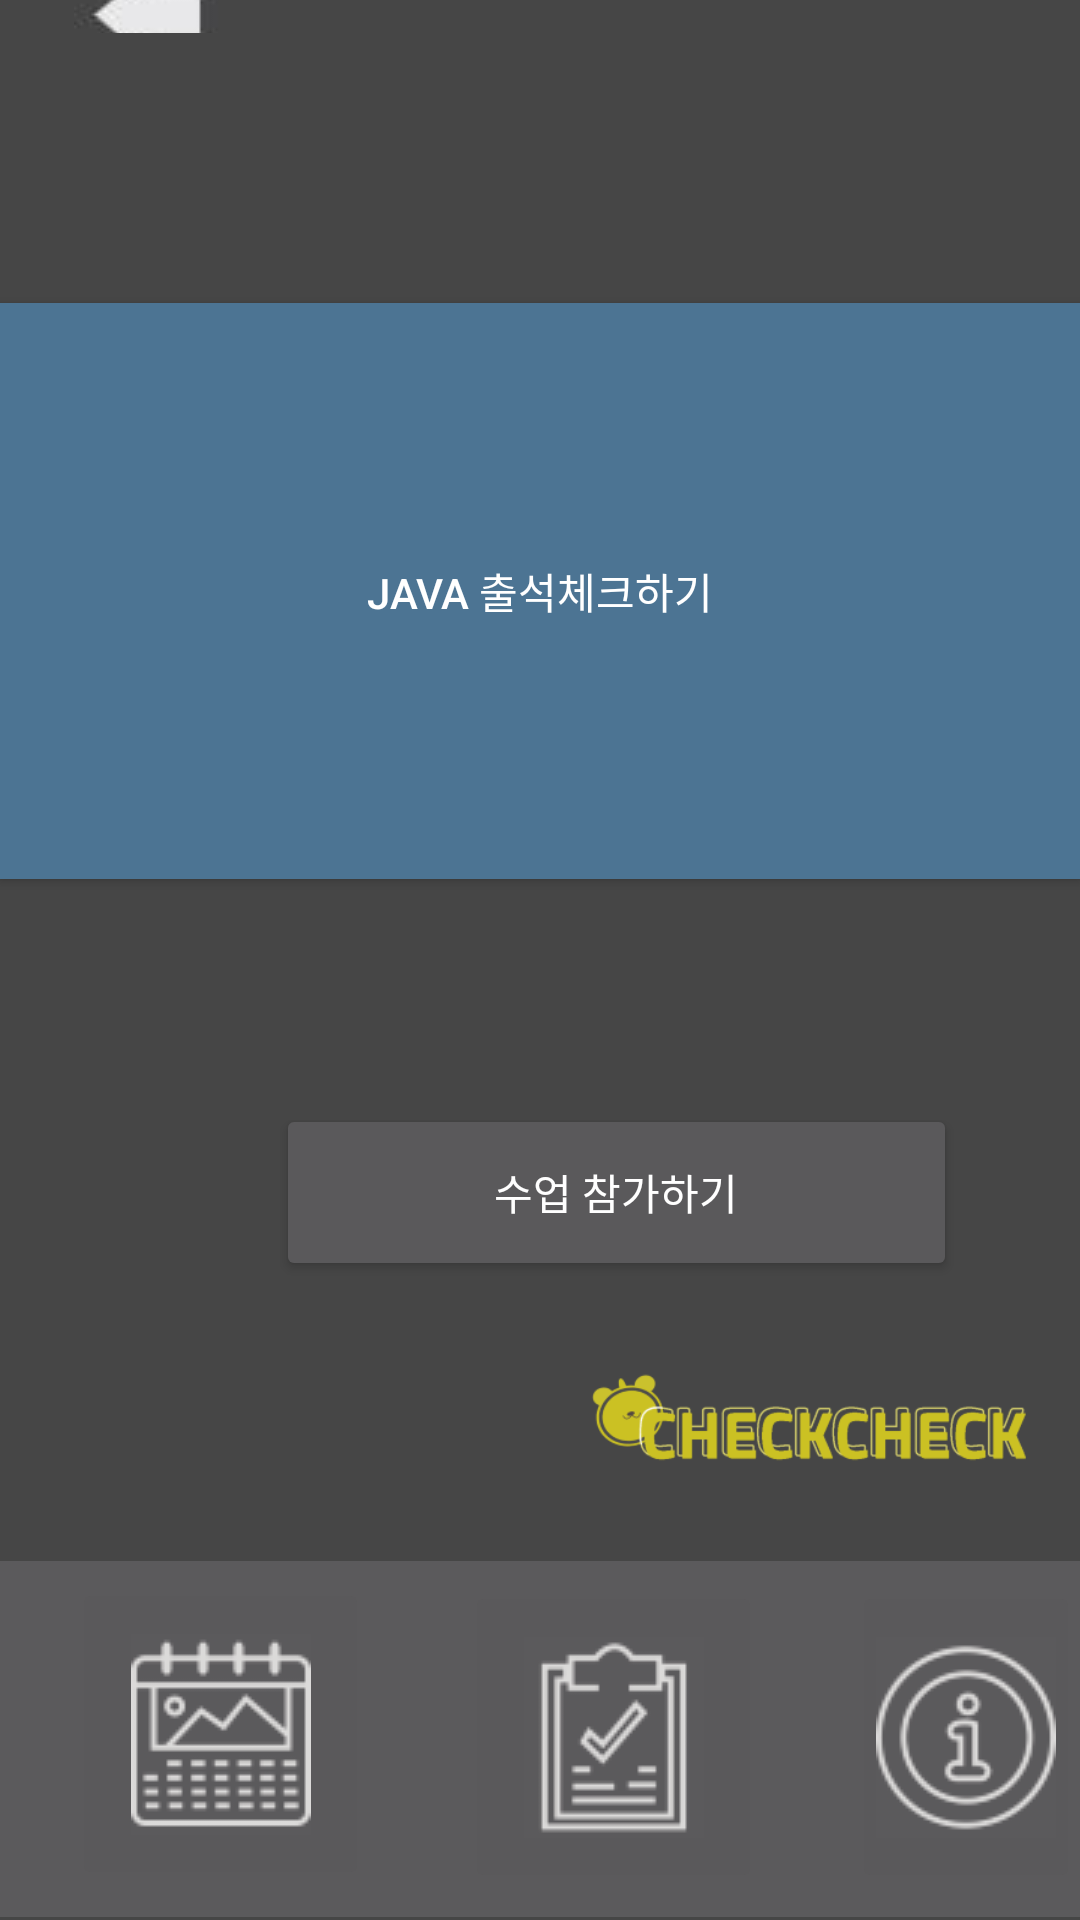

Named icons in this screenshot (1080px x 1920px) and their bounding boxes, (x1, y1, x2, y2):
cal: (131, 1641, 311, 1827)
doc: (541, 1642, 687, 1832)
